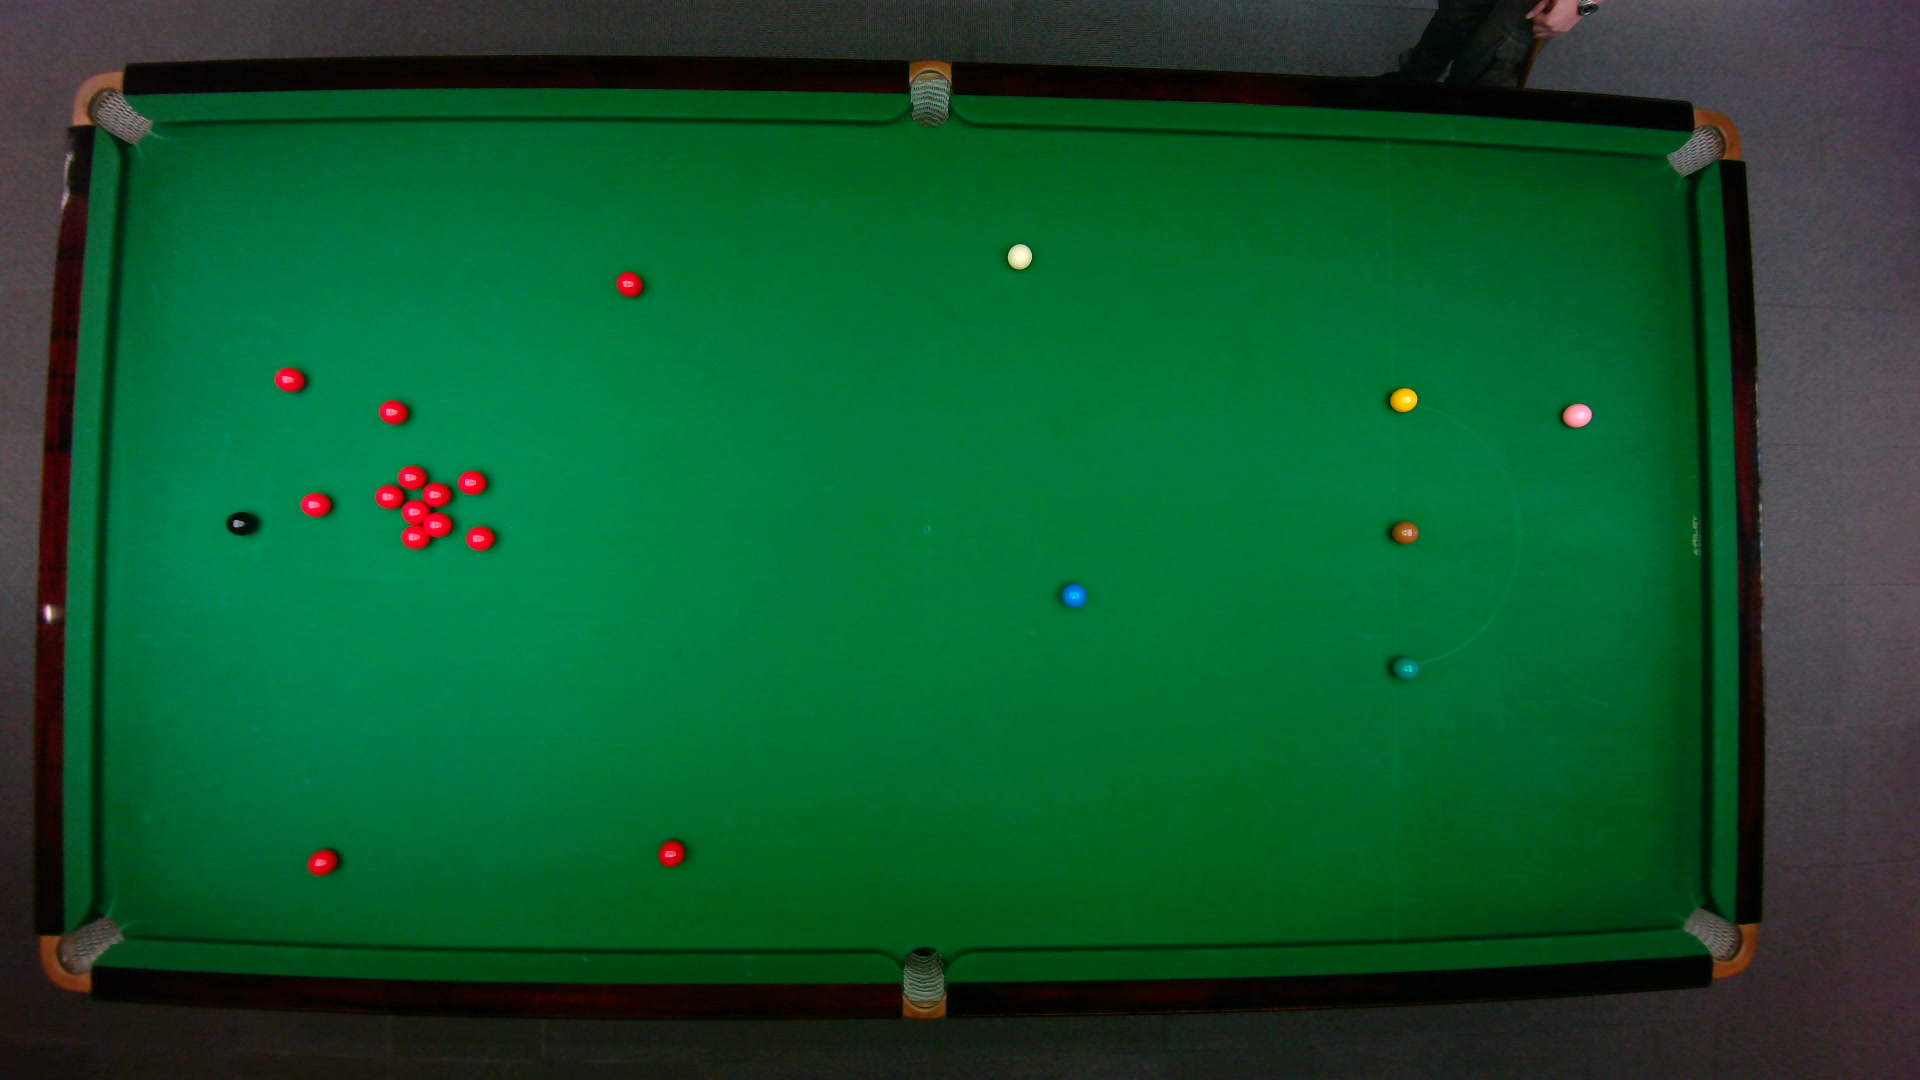bag: (37, 914, 125, 992), (69, 69, 153, 145), (1677, 905, 1756, 978), (1662, 105, 1741, 177), (901, 944, 944, 1021), (909, 57, 949, 128)
black: (224, 510, 256, 535)
blue: (1059, 582, 1087, 608)
brown: (1389, 520, 1419, 545)
green: (1390, 654, 1419, 680)
pink: (1559, 400, 1593, 429)
red: (305, 847, 339, 877), (376, 397, 409, 425), (396, 463, 429, 491), (298, 491, 332, 517), (272, 365, 306, 392), (655, 837, 686, 866), (421, 510, 452, 538), (464, 524, 496, 551), (419, 480, 452, 506), (456, 468, 488, 495), (372, 483, 405, 508), (615, 269, 644, 297), (400, 524, 429, 550), (400, 497, 429, 524)
white: (1004, 241, 1033, 272)
yellow: (1387, 385, 1418, 413)
zone: (1389, 401, 1520, 667)
